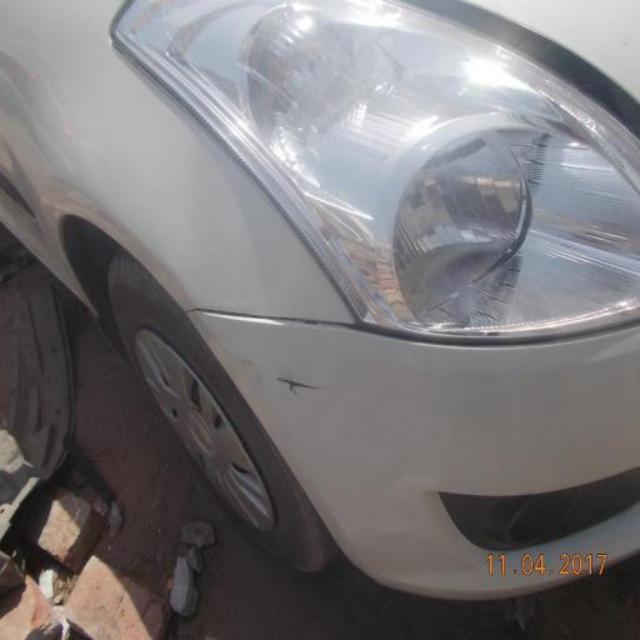crack: (274, 372, 331, 396)
